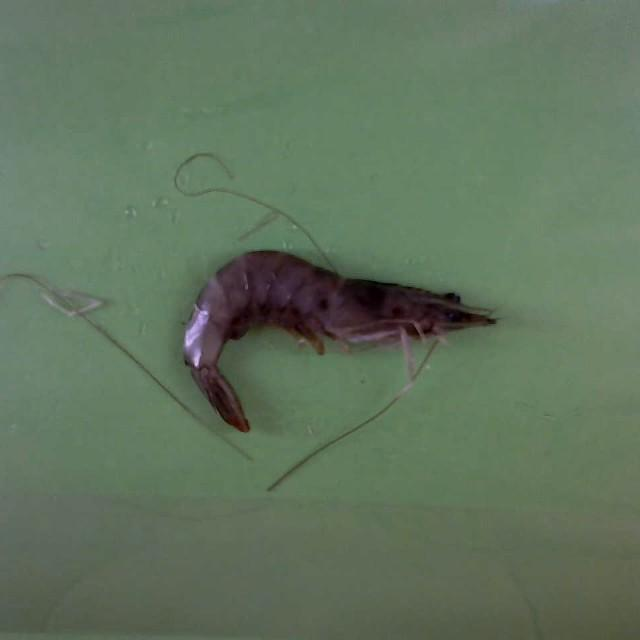shrimp: (183, 252, 496, 432)
